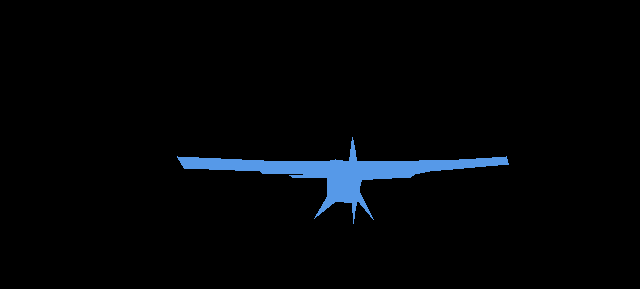Airplane: (177, 137, 509, 223)
